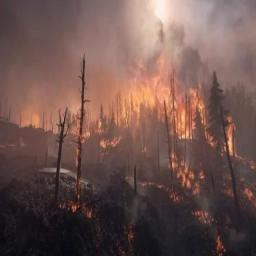Heavy smoke: (0, 0, 255, 162)
Medium fire: (0, 46, 255, 255)
